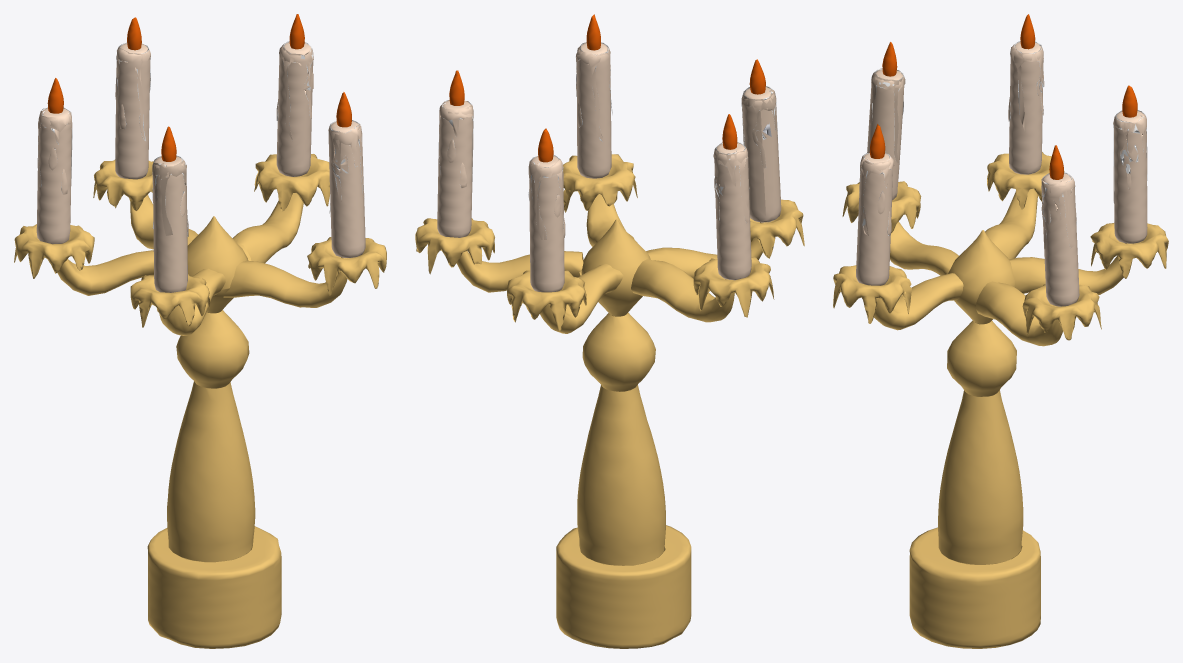
The model's file is شمعدان 5.fbx.
The picture shows the model from 3 angles, left to right: view 1: azimuth 30°, elevation 25°; view 2: azimuth 150°, elevation 25°; view 3: azimuth 270°, elevation 25°; orthographic projection. The views are drawn at different scales.
Visible parts, largest first — view 1: Obj_Avatar_Shape; view 2: Obj_Avatar_Shape; view 3: Obj_Avatar_Shape.
Part boxes in pixels (bbox=[...]): Obj_Avatar_Shape: bbox=[14, 14, 386, 648]; Obj_Avatar_Shape: bbox=[415, 14, 804, 648]; Obj_Avatar_Shape: bbox=[833, 14, 1168, 648].
Size of the model in its own units: 452 by 735 by 411.
